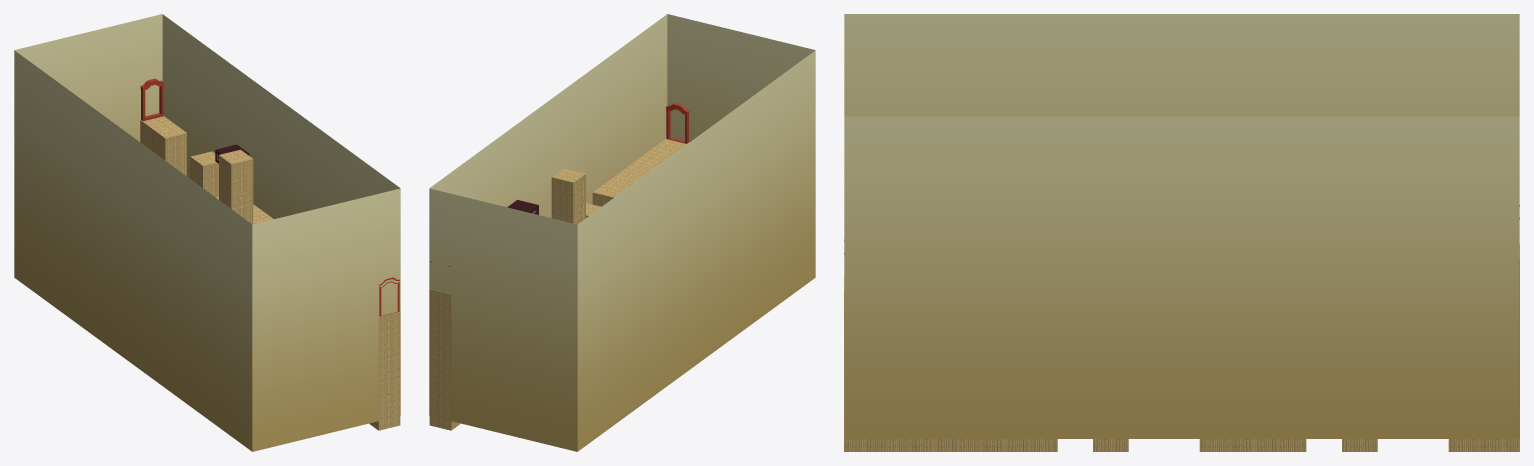
The model's file is Floor_1.1.fbx.
3 views of the same model, side by side, from view 1: azimuth 30°, elevation 25°; view 2: azimuth 150°, elevation 25°; view 3: azimuth 270°, elevation 25° (orthographic). The views are drawn at different scales.
Visible parts, largest first — view 1: pCube1, polySurface527, polySurface454, polySurface468, polySurface501, polySurface455, polySurface497, polySurface498, polySurface499, polySurface500, Archway_01; view 2: pCube1, polySurface527, polySurface462, polySurface455, polySurface459, polySurface526, polySurface460, polySurface456, polySurface494, Gateway:Archway_01; view 3: pCube1.
Boxes of the visible parts, left/top/right/bottom form: pCube1: left=14, top=14, right=400, bottom=451; polySurface527: left=219, top=149, right=253, bottom=224; polySurface454: left=153, top=124, right=186, bottom=160; polySurface468: left=190, top=151, right=218, bottom=188; polySurface501: left=369, top=403, right=400, bottom=430; polySurface455: left=140, top=116, right=174, bottom=151; polySurface497: left=378, top=312, right=400, bottom=339; polySurface498: left=378, top=334, right=400, bottom=362; polySurface499: left=378, top=357, right=400, bottom=384; polySurface500: left=378, top=380, right=400, bottom=407; Archway_01: left=140, top=78, right=163, bottom=121; pCube1: left=429, top=14, right=815, bottom=451; polySurface527: left=551, top=168, right=585, bottom=224; polySurface462: left=429, top=403, right=460, bottom=430; polySurface455: left=429, top=289, right=451, bottom=316; polySurface459: left=429, top=357, right=451, bottom=384; polySurface526: left=429, top=312, right=451, bottom=339; polySurface460: left=429, top=380, right=451, bottom=407; polySurface456: left=429, top=334, right=451, bottom=362; polySurface494: left=592, top=183, right=626, bottom=206; Gateway:Archway_01: left=666, top=103, right=689, bottom=143; pCube1: left=844, top=14, right=1519, bottom=438.
Size of the model in its own units: 13.64 by 20.83 by 38.
